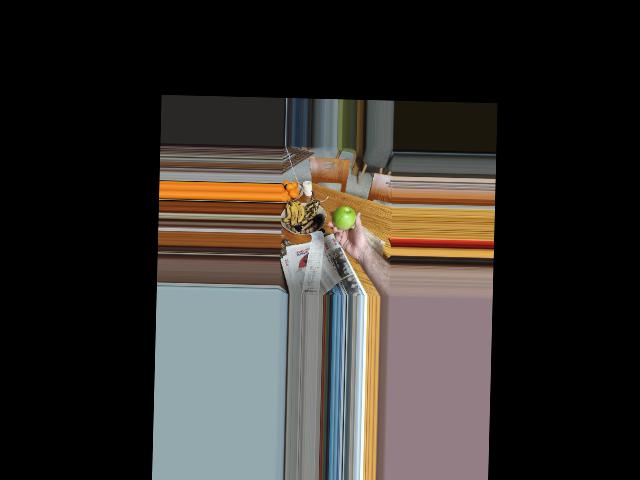apple: (332, 204, 356, 229)
